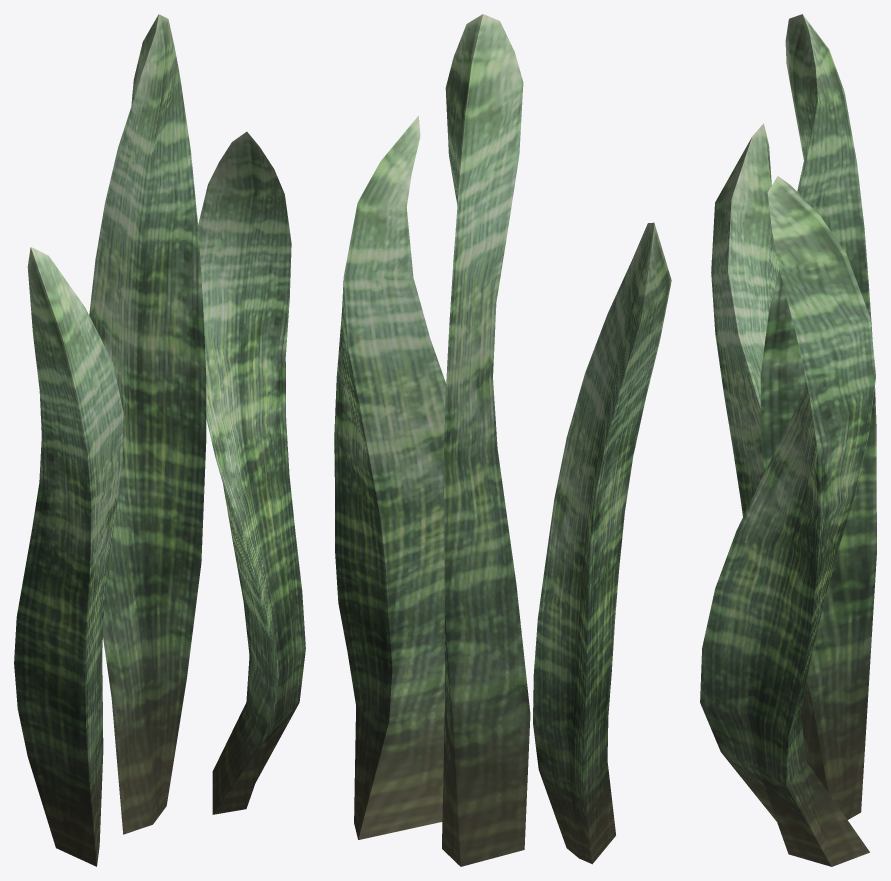
File: D_Plant_011.fbx
The picture shows the model from 3 angles, left to right: view 1: azimuth 30°, elevation 25°; view 2: azimuth 150°, elevation 25°; view 3: azimuth 270°, elevation 25°; orthographic projection. The views are drawn at different scales.
Visible parts, largest first — view 1: D_Plant_011; view 2: D_Plant_011; view 3: D_Plant_011.
Part boxes in pixels (x1,y1,x2,y2): D_Plant_011: [14, 14, 305, 866]; D_Plant_011: [334, 14, 671, 866]; D_Plant_011: [700, 14, 876, 866].
Bounding box in the file's own units: 0.4503 × 1.2 × 0.2398.
1 material, 1 textured.
